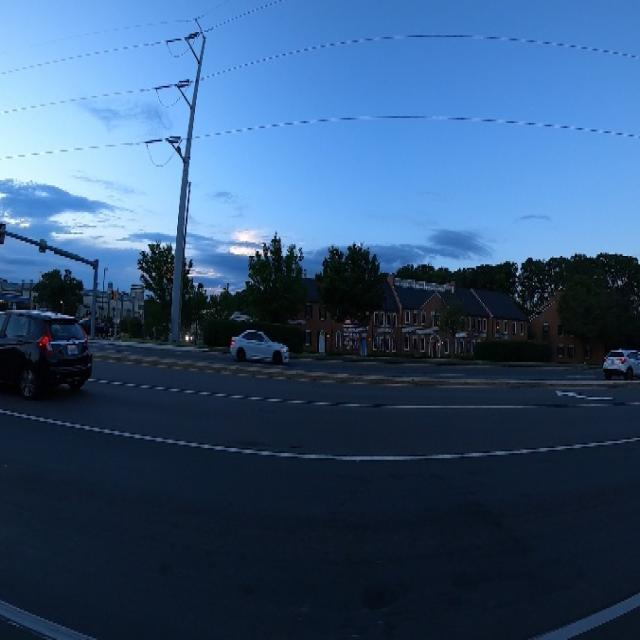cars: (0, 306, 96, 401), (224, 323, 298, 377), (602, 337, 640, 386)
